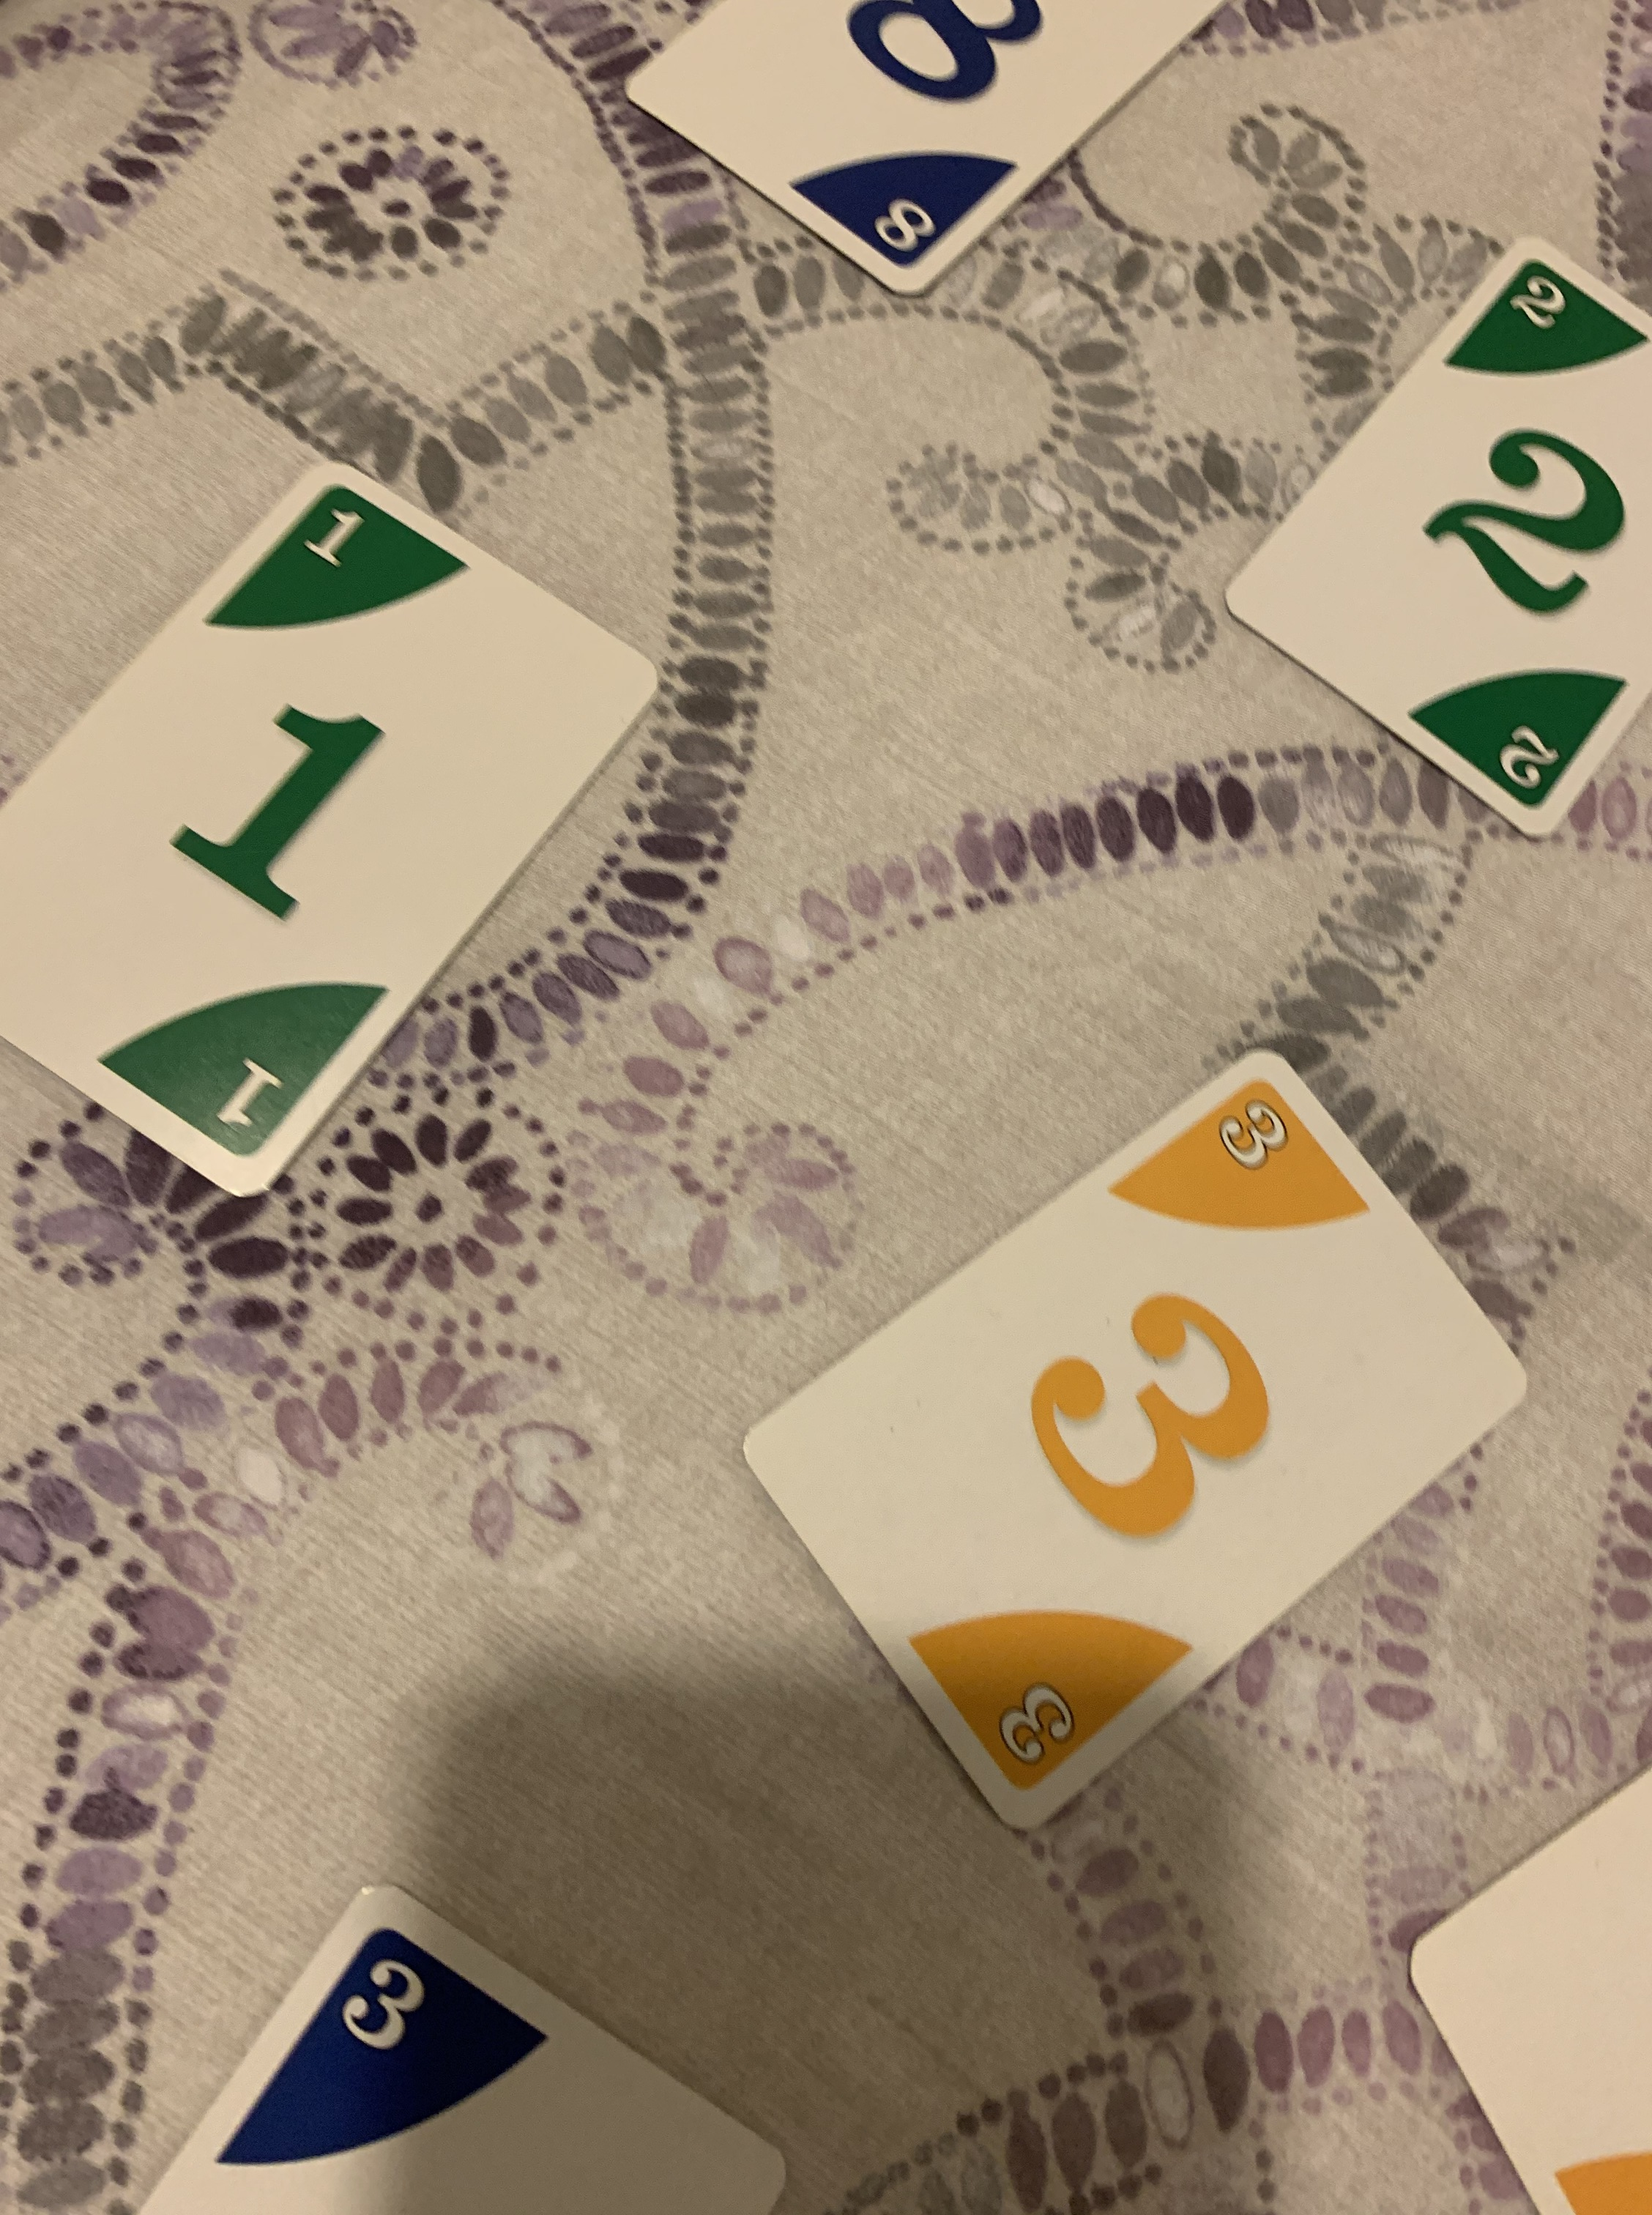one: (5, 448, 659, 1198)
three: (731, 1040, 1534, 1840)
two: (1192, 227, 1652, 840)
